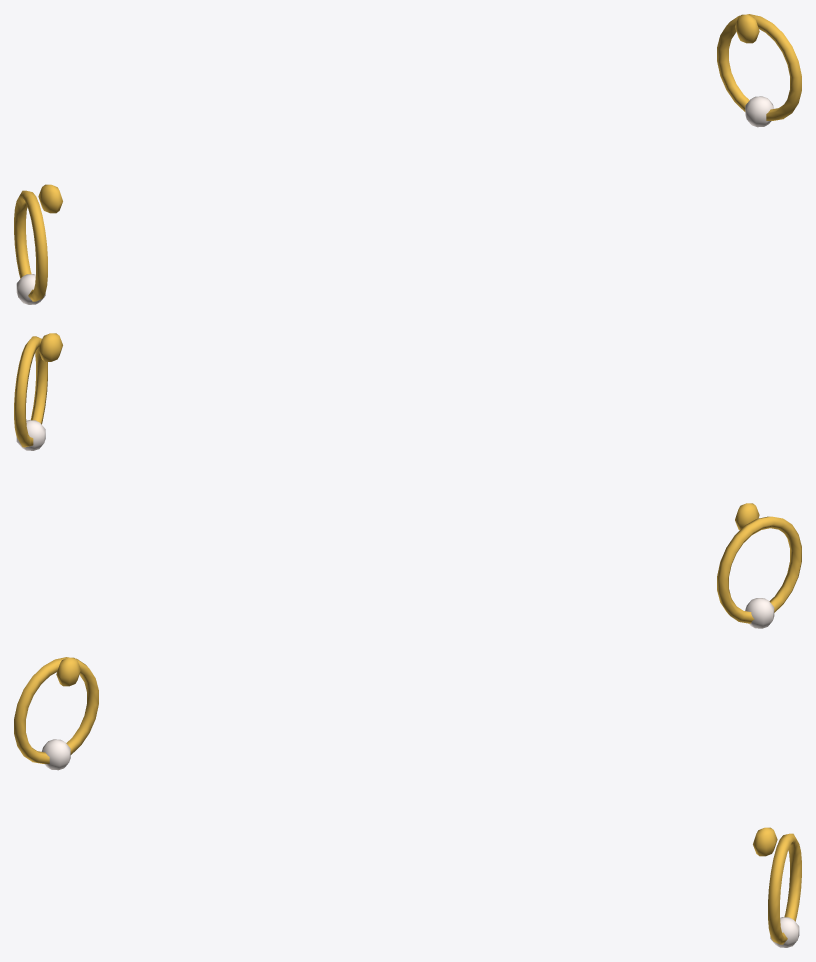
Rendered from small_hoops.glb.
3 views of the same model, one above another, from view 1: azimuth 30°, elevation 25°; view 2: azimuth 150°, elevation 25°; view 3: azimuth 330°, elevation 25° (orthographic).
Parts seen in each view (by area): view 1: small_hoops; view 2: small_hoops; view 3: small_hoops.
Boxes of the visible parts, x1,y1,x2,y2 form: small_hoops: (14, 14, 801, 304); small_hoops: (14, 333, 801, 628); small_hoops: (14, 657, 801, 947).
Size of the model in its own units: 0.2252 by 0.0332 by 0.0272.
